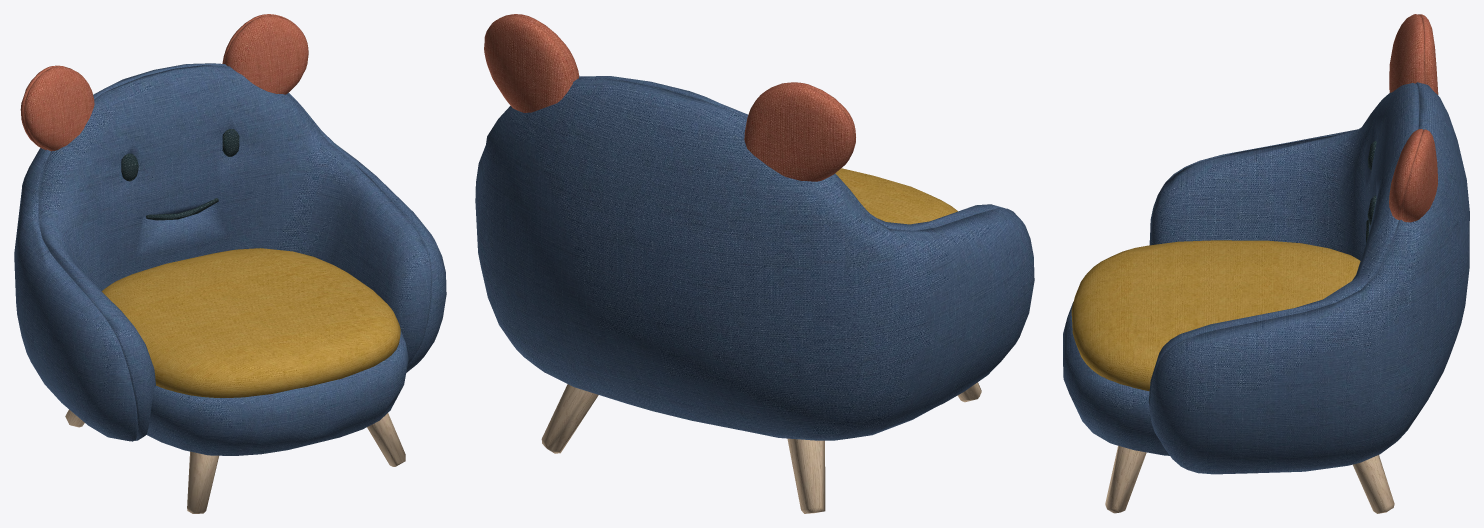
Rendered from kid_chair_bear.glb.
3 renders of one model, left to right at view 1: azimuth 30°, elevation 25°; view 2: azimuth 150°, elevation 25°; view 3: azimuth 270°, elevation 25°, orthographic. The views are drawn at different scales.
Parts seen in each view (by area): view 1: Box014_FA_005_0, Box014_FA_014_0, Box014_FA_004_0, Line002_Ash_0, Box014_FA_012_0; view 2: Box014_FA_005_0, Box014_FA_004_0, Line002_Ash_0, Box014_FA_014_0; view 3: Box014_FA_005_0, Box014_FA_014_0, Box014_FA_004_0, Line002_Ash_0.
Part boxes in pixels (x1=…): Box014_FA_005_0: x1=14, y1=63, x2=446, y2=455; Box014_FA_014_0: x1=101, y1=248, x2=400, y2=397; Box014_FA_004_0: x1=20, y1=14, x2=308, y2=151; Line002_Ash_0: x1=65, y1=409, x2=405, y2=513; Box014_FA_012_0: x1=121, y1=129, x2=239, y2=220; Box014_FA_005_0: x1=475, y1=76, x2=1034, y2=440; Box014_FA_004_0: x1=484, y1=14, x2=855, y2=181; Line002_Ash_0: x1=541, y1=382, x2=981, y2=513; Box014_FA_014_0: x1=835, y1=168, x2=957, y2=224; Box014_FA_005_0: x1=1063, y1=82, x2=1469, y2=474; Box014_FA_014_0: x1=1071, y1=240, x2=1360, y2=391; Box014_FA_004_0: x1=1389, y1=14, x2=1438, y2=222; Line002_Ash_0: x1=1105, y1=445, x2=1394, y2=513.
Size of the model in its own units: 0.7148 by 0.6394 by 0.6128.
5 materials, 5 textured.
